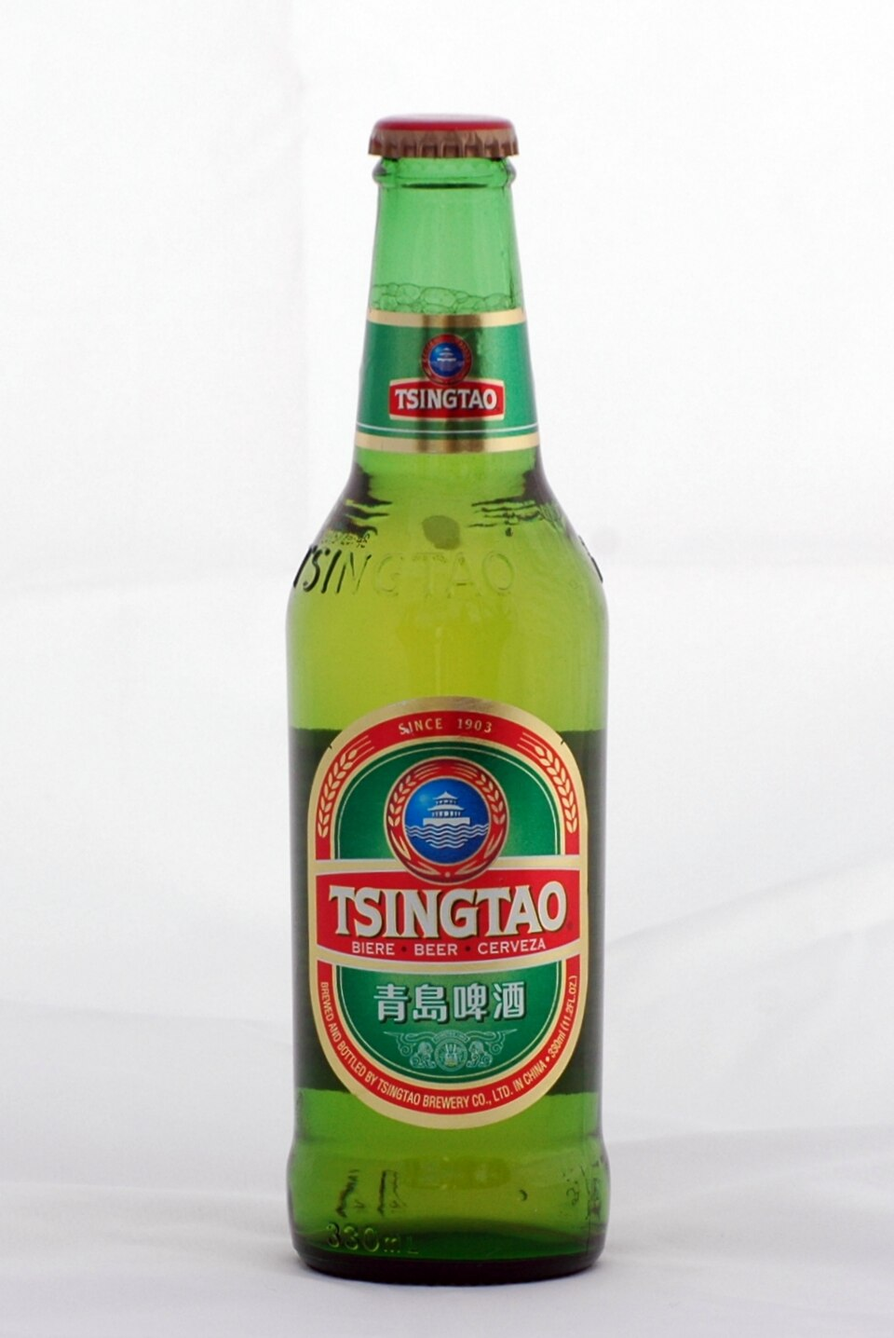beer-bottle: (273, 106, 623, 1299)
